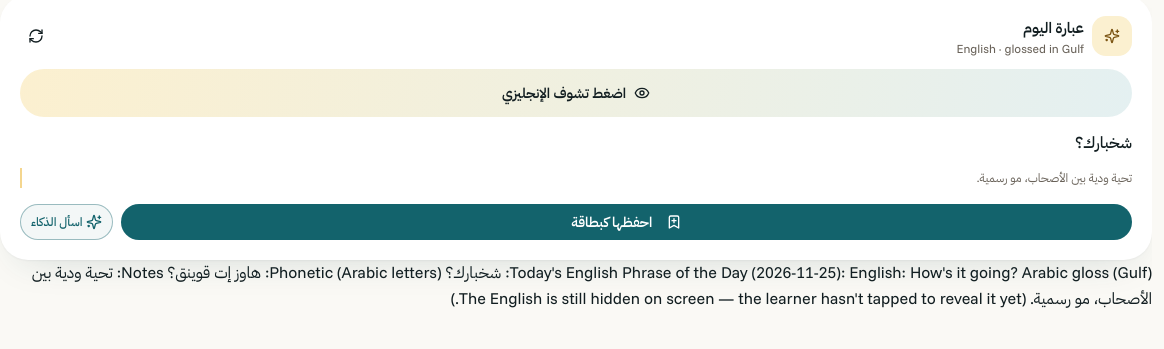
showing today's phrase › reveals the English and its phonetic reading together
The width and height of the screenshot is (1164, 349).
Check: the text "شخبارك؟" is shown, box [1075,132,1132,152]
What coordinates should you click on to do the following:
click the button with aria-label "اكشف العبارة بالإنجليزي"
I would click on:
 (576, 93)
Its box is [20,69,1132,117].
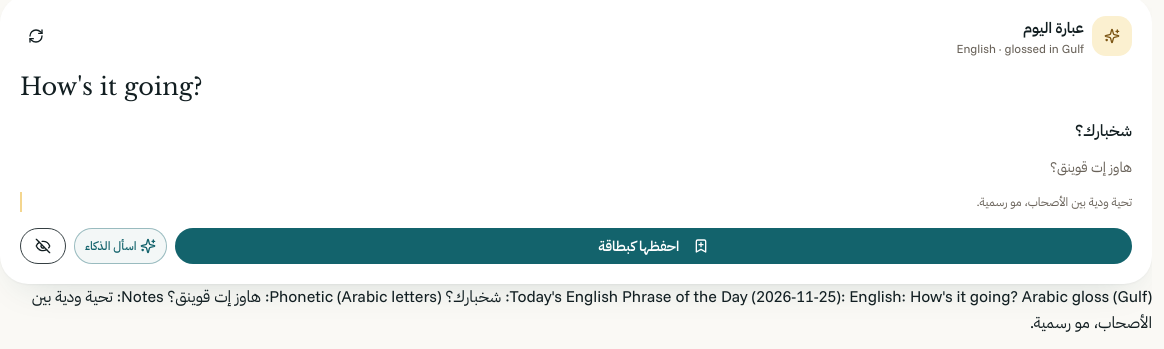
Check: the text "How's it going?" is shown, box [20,72,203,101]
Check: the text "هاوز إت قوينق؟" is shown, box [1050,158,1132,176]
